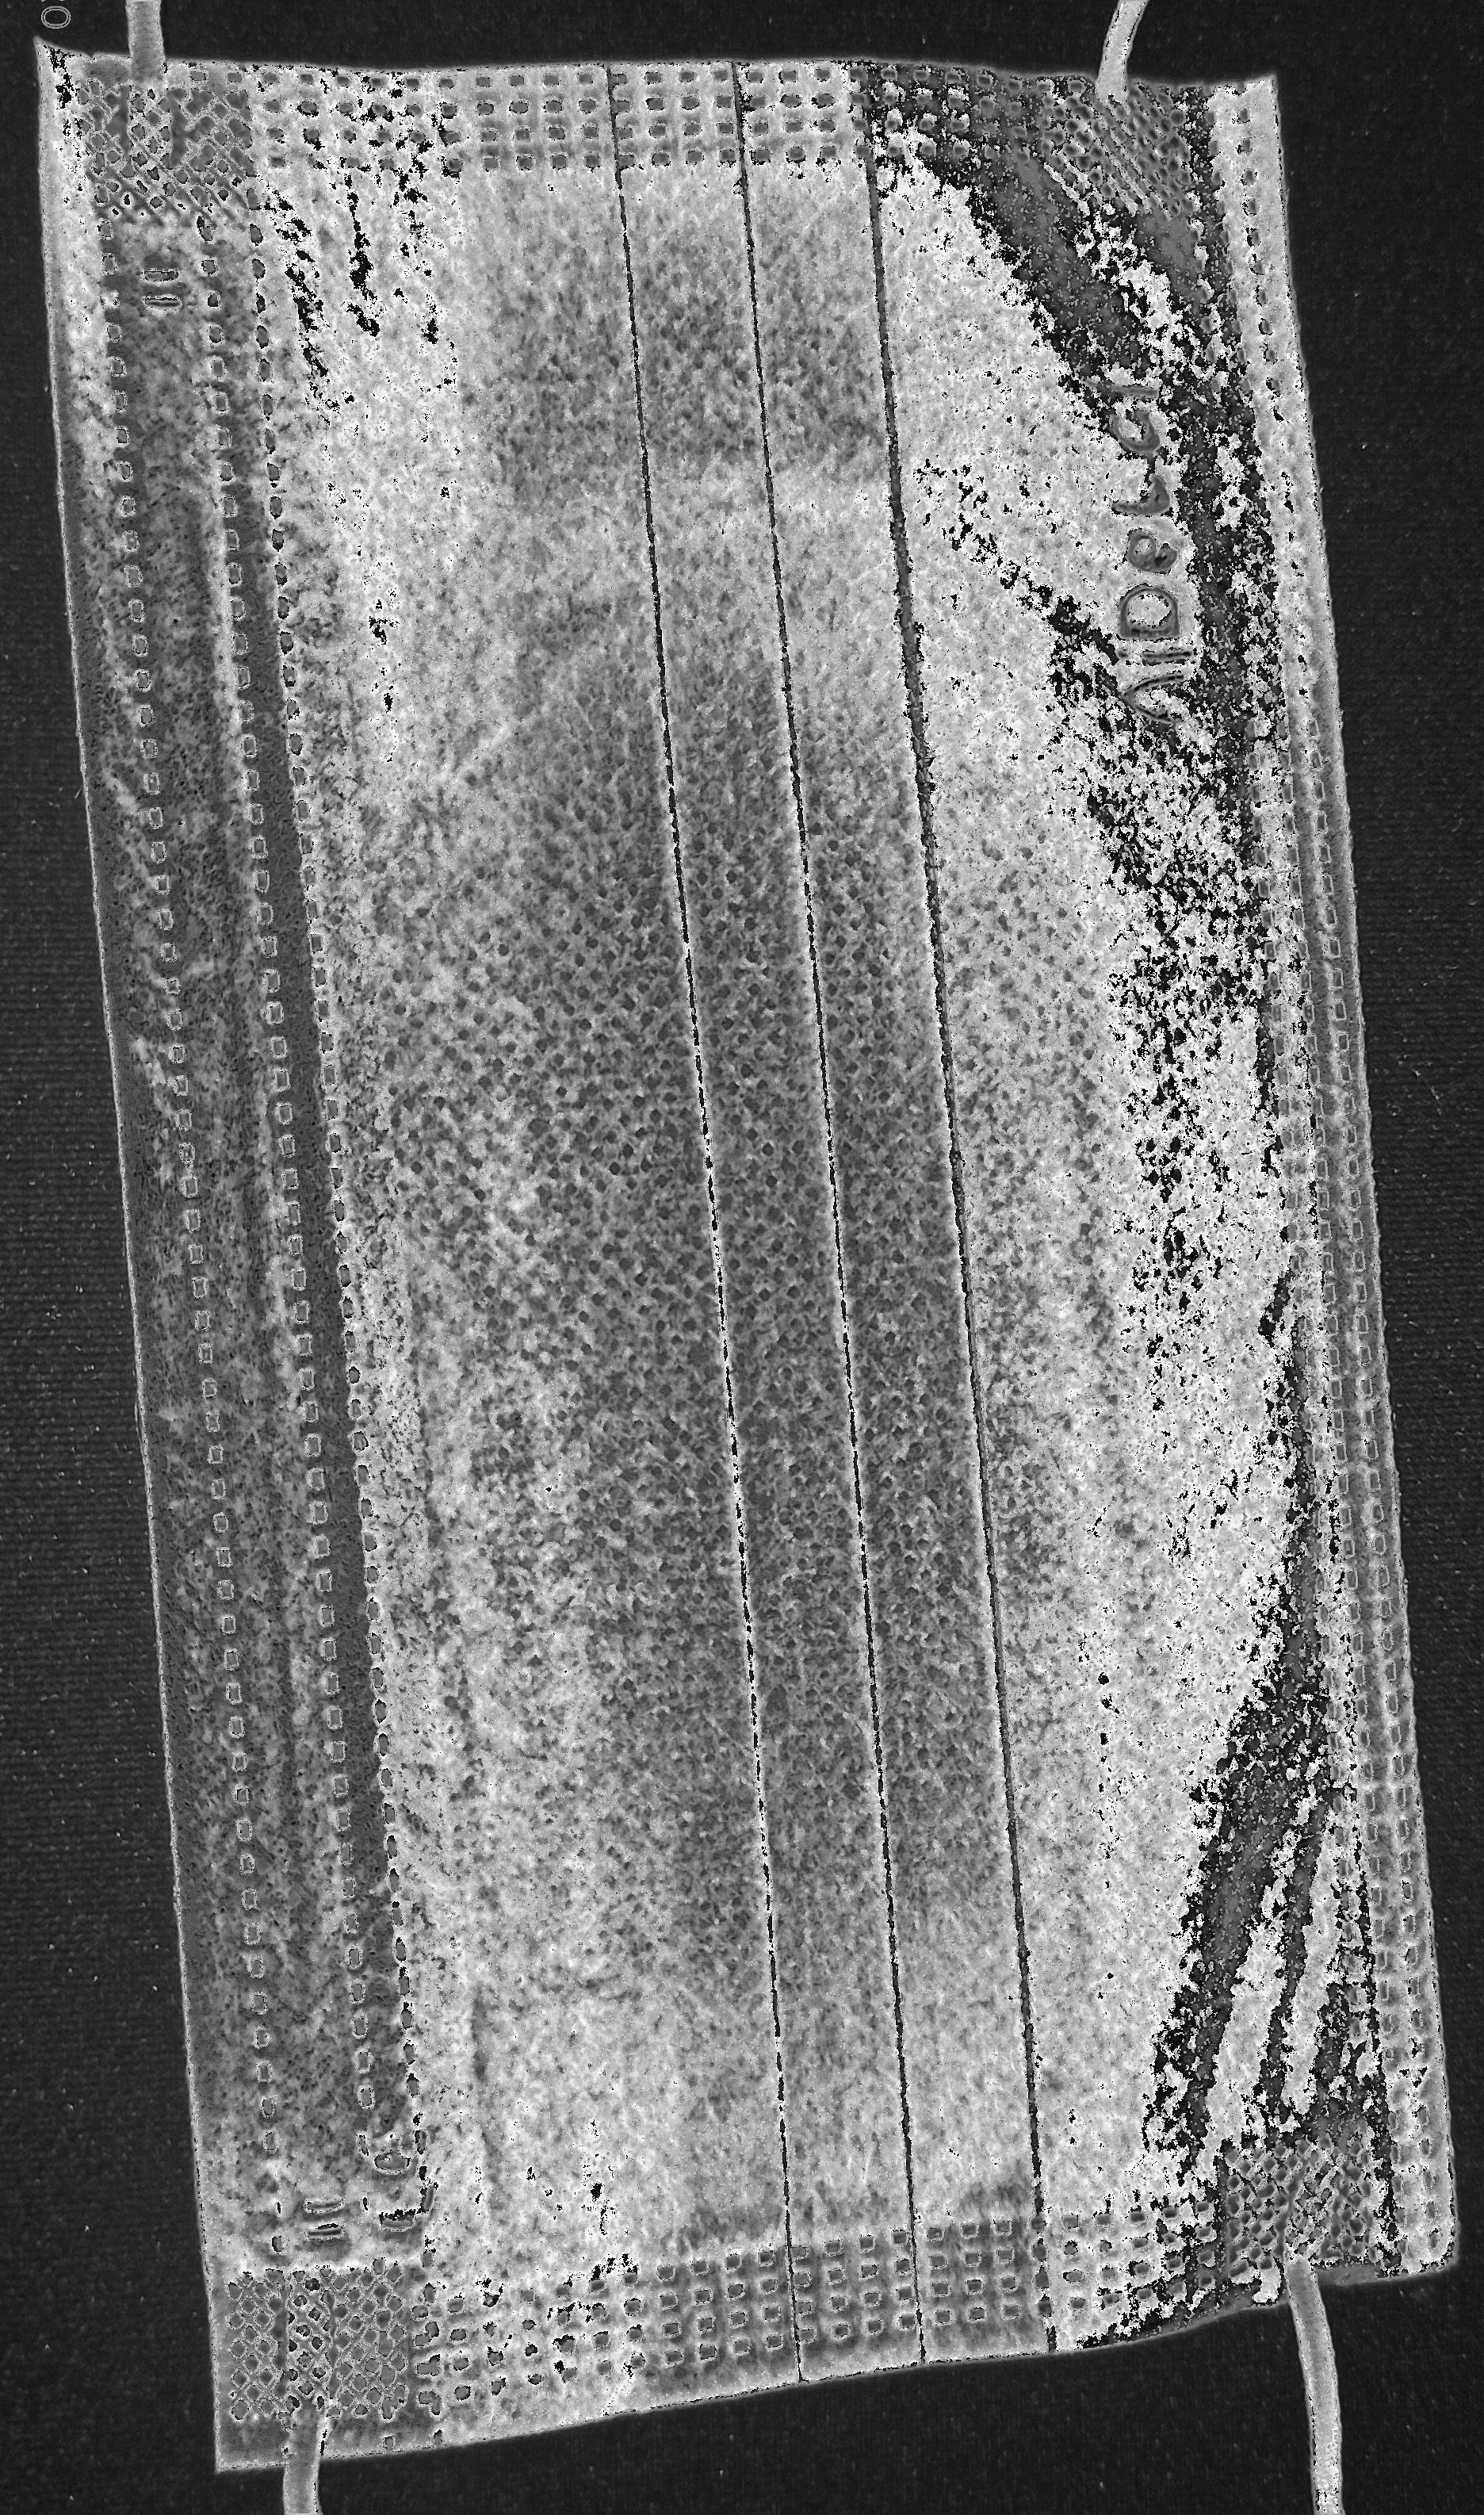Low GSM: (367, 276, 1307, 2070)
